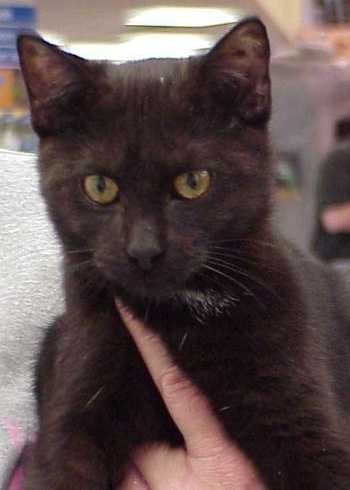Cat: (17, 17, 349, 489)
